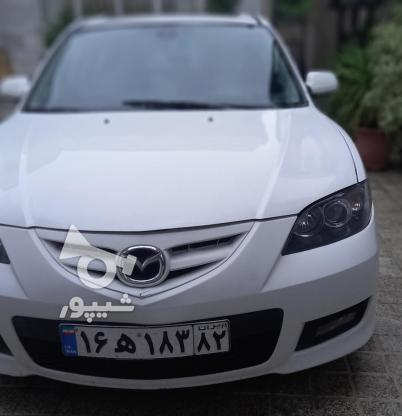car: (59, 318, 230, 359)
